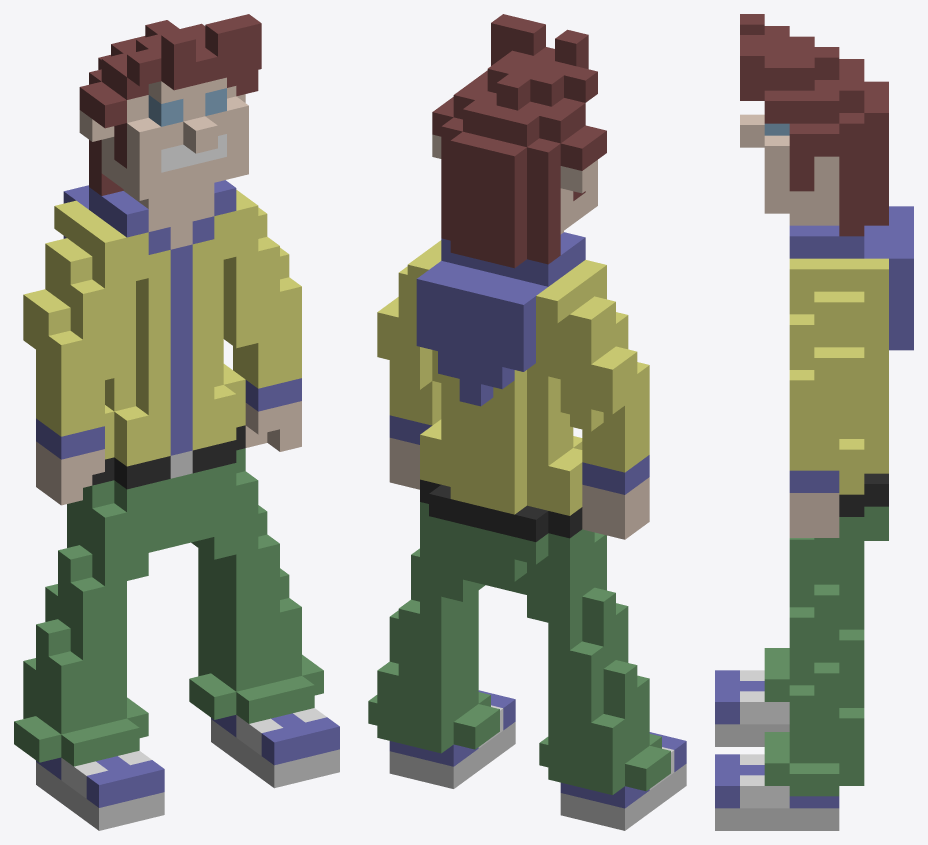
File: man1_v1.fbx
3 renders of one model, left to right at view 1: azimuth 30°, elevation 25°; view 2: azimuth 150°, elevation 25°; view 3: azimuth 270°, elevation 25°, orthographic. The views are drawn at different scales.
Parts seen in each view (by area): view 1: man1; view 2: man1; view 3: man1.
Boxes of the visible parts, box(x1,y1,x2,y2) form: man1: box(14, 14, 339, 830); man1: box(368, 14, 686, 830); man1: box(715, 14, 913, 830).
Bounding box in the file's own units: 13 × 33 × 8.
